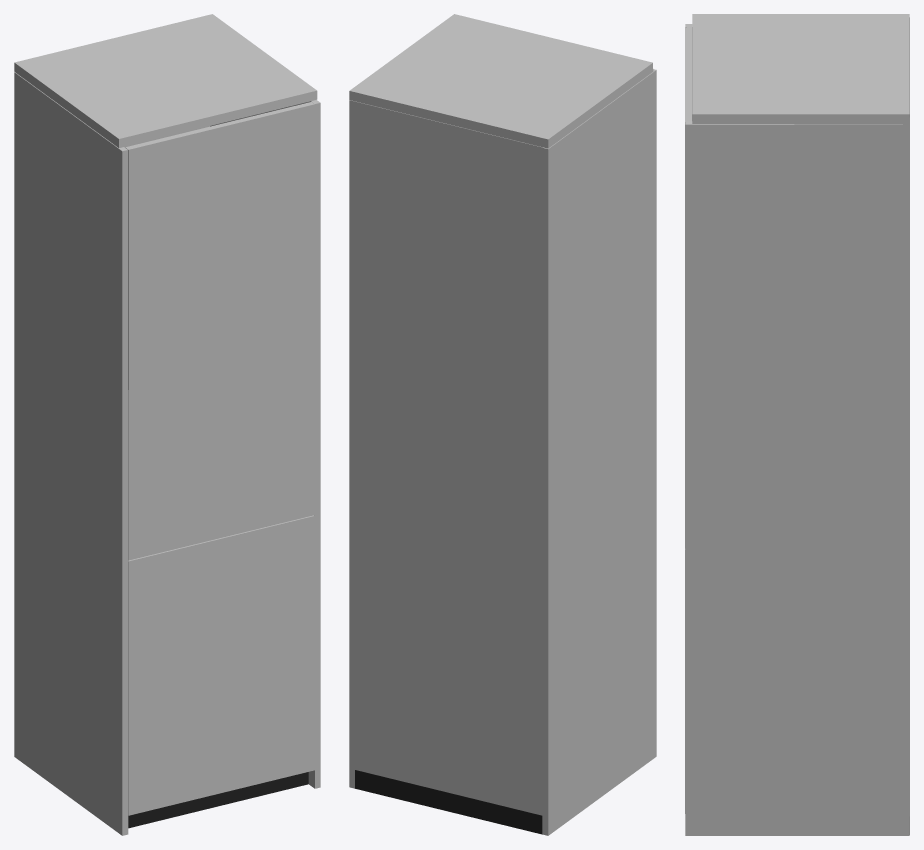
Rendered from Cabinet002.FBX.
3 views of the same model, side by side, from view 1: azimuth 30°, elevation 25°; view 2: azimuth 150°, elevation 25°; view 3: azimuth 270°, elevation 25° (orthographic). The views are drawn at different scales.
Parts seen in each view (by area): view 1: Cabinet002; view 2: Cabinet002; view 3: Cabinet002.
Part boxes in pixels (x1,y1,x2,y2): Cabinet002: [14, 14, 320, 835]; Cabinet002: [349, 14, 656, 835]; Cabinet002: [685, 14, 909, 835].
Size of the model in its own units: 2.31 by 7.73 by 2.18.
